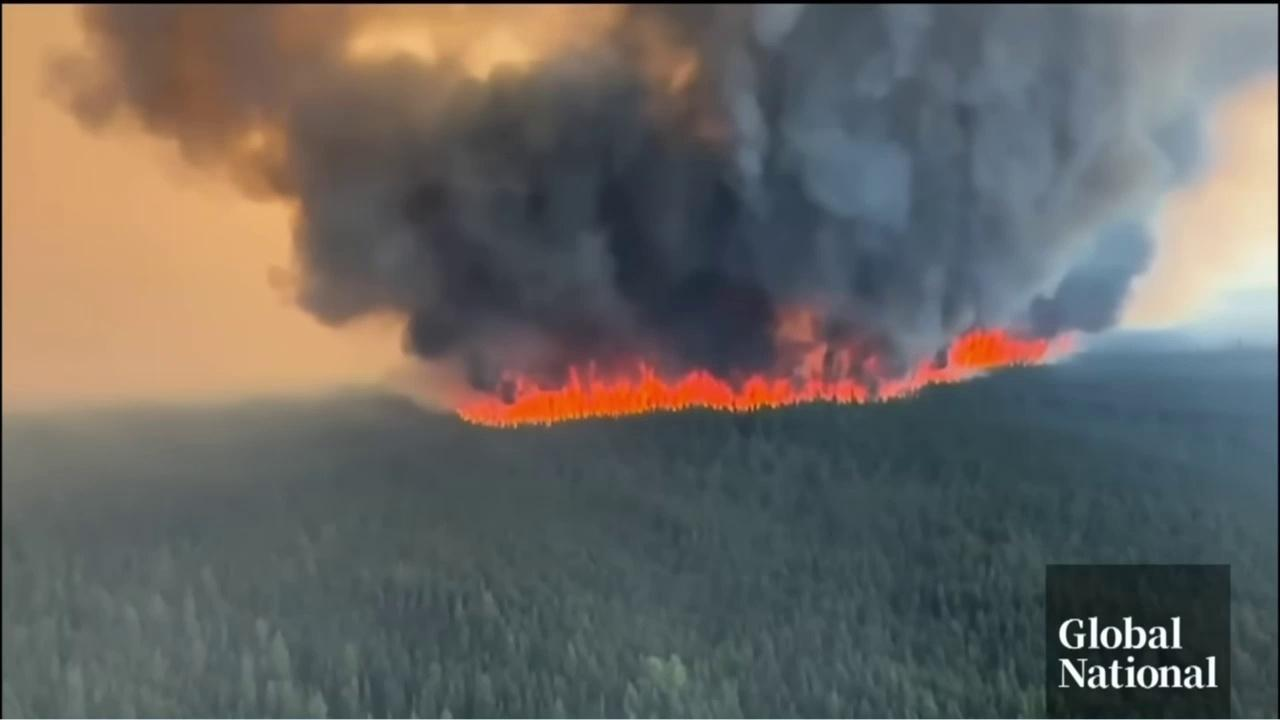fire: (453, 303, 1074, 429)
smoke: (42, 4, 1278, 422)
